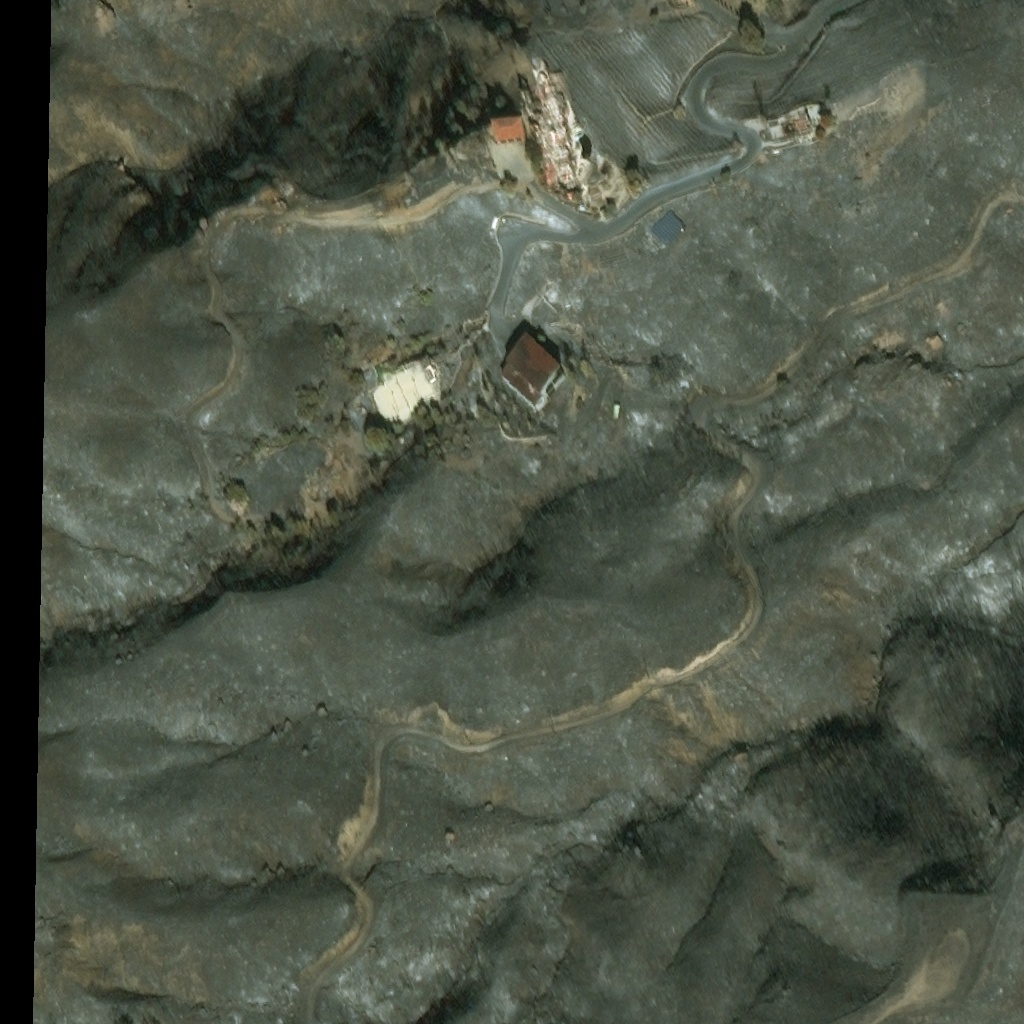0 no-damage: (493, 118, 526, 145)
1 minor-damage: (498, 336, 566, 408), (611, 401, 619, 419)
2 major-damage: (640, 211, 688, 255)
3 destroyed: (527, 73, 575, 189), (368, 357, 437, 417), (780, 112, 811, 134), (595, 159, 613, 176), (533, 60, 549, 78), (278, 179, 292, 197), (202, 223, 212, 235), (270, 227, 280, 236)
4 un-classified: (671, 0, 690, 3)
